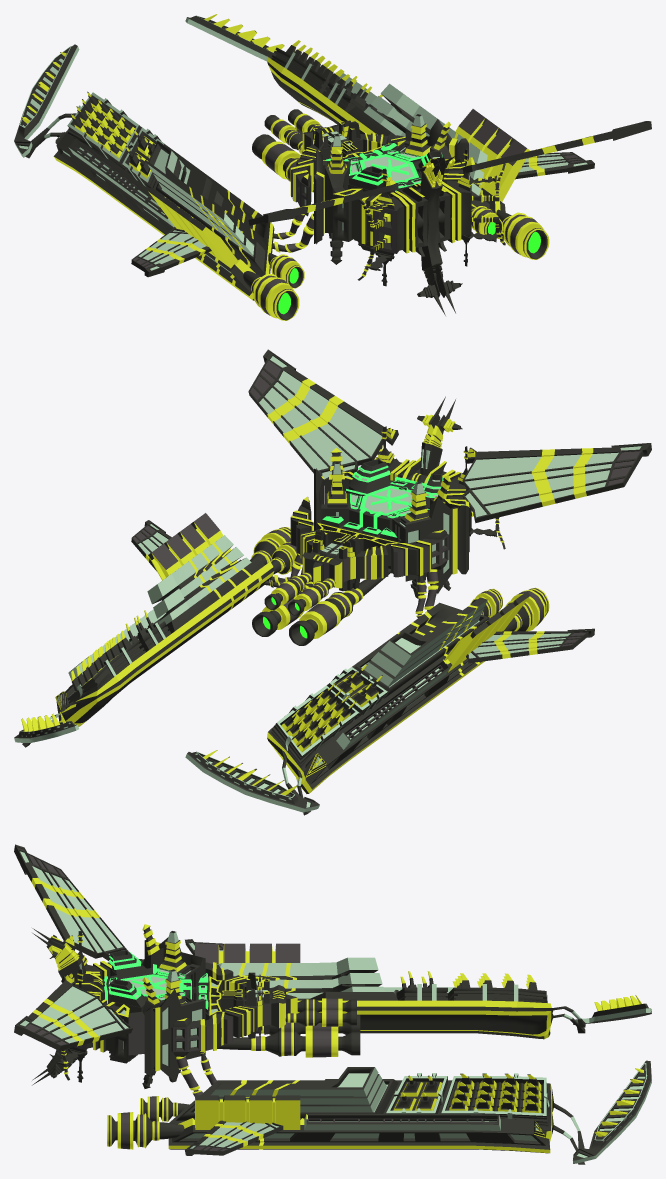
Rendered from solace.glb.
The picture shows the model from 3 angles, top to bottom: view 1: azimuth 30°, elevation 25°; view 2: azimuth 150°, elevation 25°; view 3: azimuth 270°, elevation 25°; orthographic projection. The views are drawn at different scales.
Parts seen in each view (by area): view 1: Cube; view 2: Cube; view 3: Cube.
Part boxes in pixels (x1,y1,x2,y2): Cube: [14, 14, 651, 320]; Cube: [14, 349, 651, 815]; Cube: [14, 844, 651, 1164].
Bounding box in the file's own units: 6.34 × 2.37 × 8.1.
